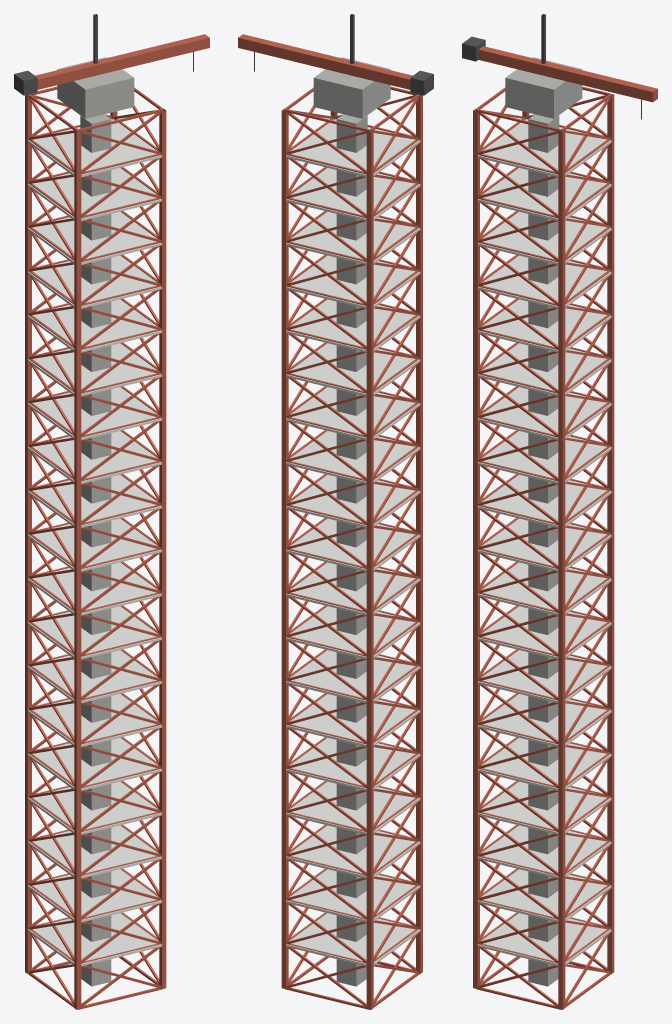
The model's file is Pad_Saturn_LUT.fbx.
The picture shows the model from 3 angles, left to right: view 1: azimuth 30°, elevation 25°; view 2: azimuth 150°, elevation 25°; view 3: azimuth 330°, elevation 25°; orthographic projection.
Parts seen in each view (by area): view 1: Pad_Saturn_LUT; view 2: Pad_Saturn_LUT; view 3: Pad_Saturn_LUT.
Boxes of the visible parts, box(x1,y1,x2,y2) form: Pad_Saturn_LUT: box(14, 14, 209, 1009); Pad_Saturn_LUT: box(238, 14, 433, 1009); Pad_Saturn_LUT: box(462, 14, 657, 1009).
Bounding box in the file's own units: 27 × 132 × 12.84.
